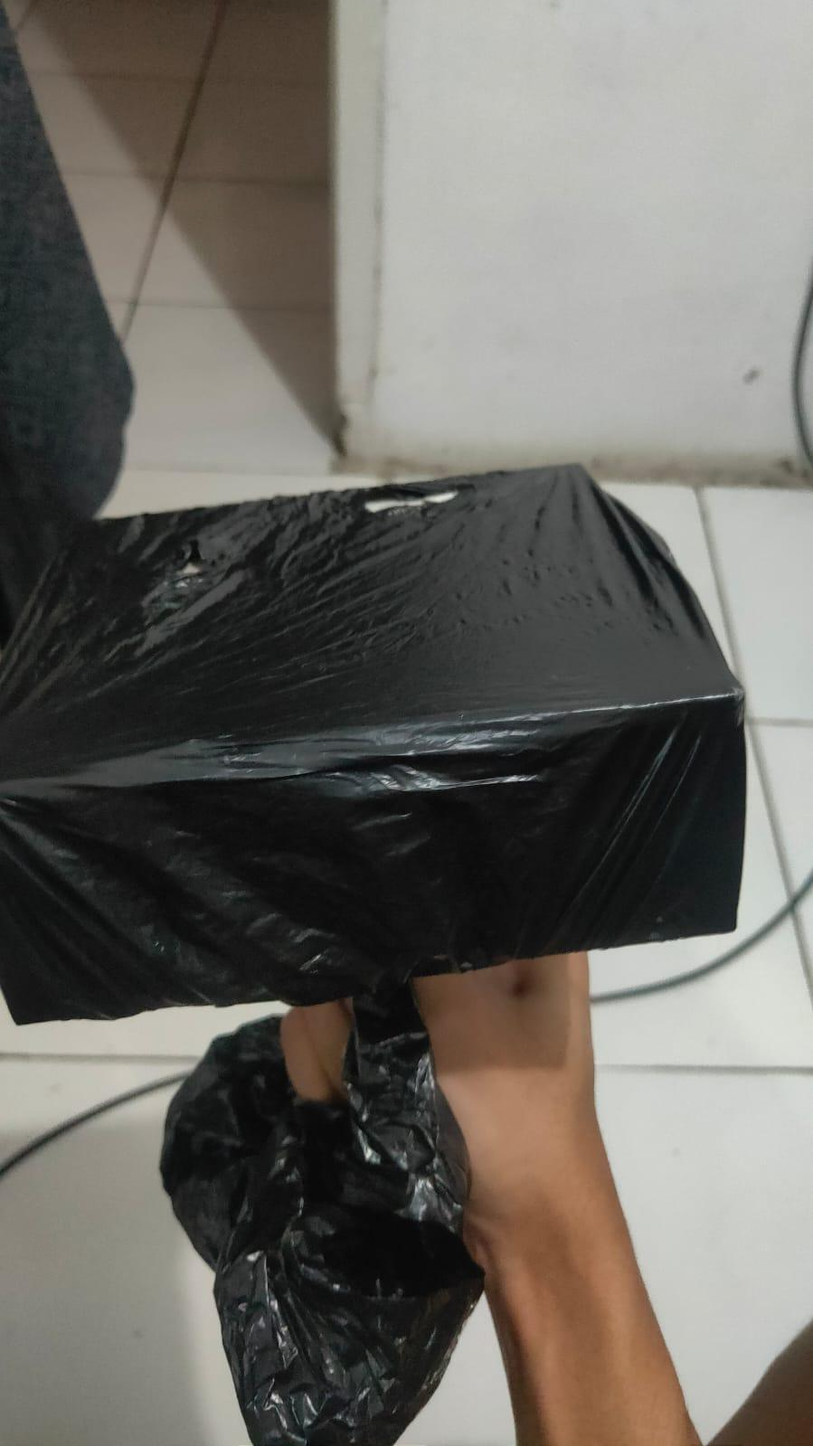damaged package: (355, 479, 478, 519), (160, 525, 208, 604)
undamaged: (0, 445, 773, 1033)
